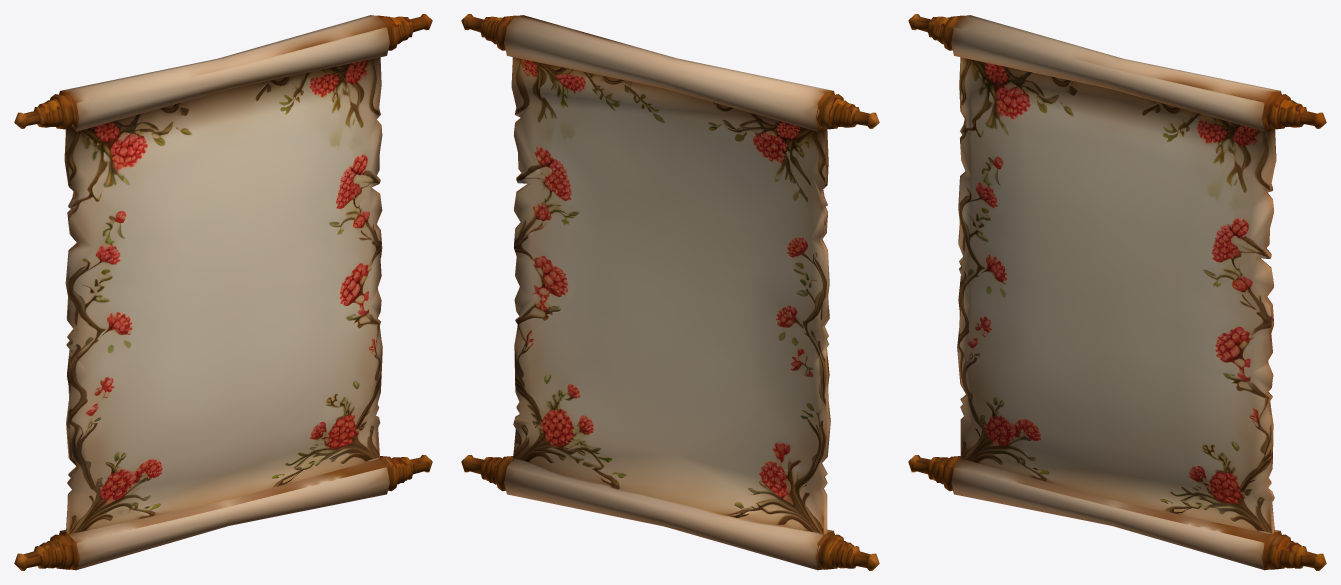
File: item3_scoll.fbx
3 views of the same model, side by side, from view 1: azimuth 30°, elevation 25°; view 2: azimuth 150°, elevation 25°; view 3: azimuth 330°, elevation 25° (orthographic).
Parts seen in each view (by area): view 1: texture_pbr_v128; view 2: texture_pbr_v128; view 3: texture_pbr_v128.
Part boxes in pixels (x1,y1,x2,y2): texture_pbr_v128: (14, 14, 432, 570); texture_pbr_v128: (461, 14, 879, 570); texture_pbr_v128: (908, 14, 1326, 570).
Bounding box in the file's own units: 84.22 × 91.76 × 8.3.
Materials: 1 (1 with a texture image).
